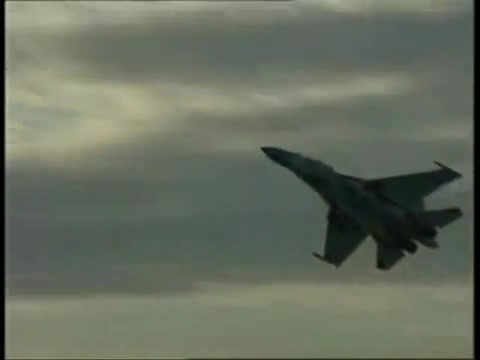aeroplane: (262, 145, 466, 273)
